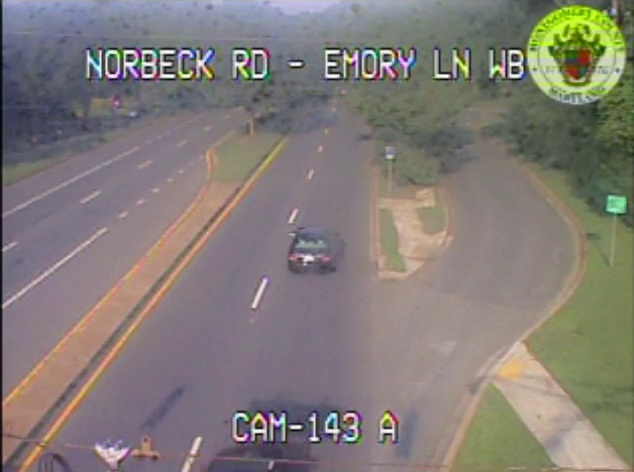car: (286, 228, 331, 271)
